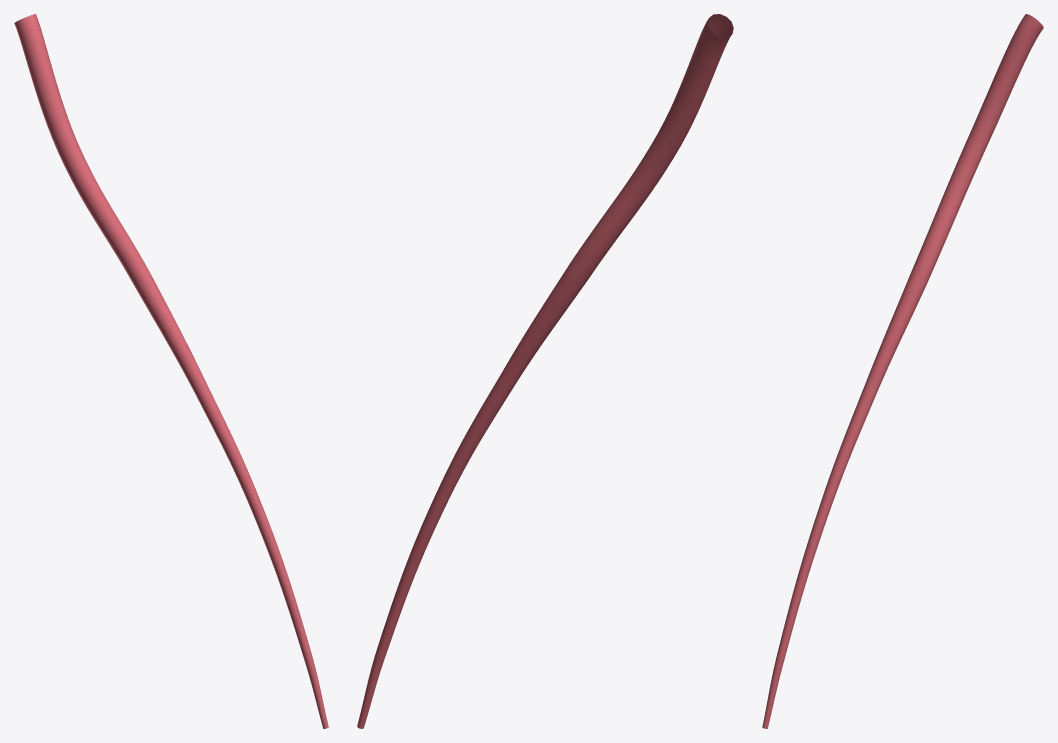
3 renders of one model, left to right at view 1: azimuth 30°, elevation 25°; view 2: azimuth 210°, elevation 25°; view 3: azimuth 270°, elevation 25°, orthographic. The views are drawn at different scales.
Parts seen in each view (by area): view 1: ZA_f090c4ca8a7de714; view 2: ZA_f090c4ca8a7de714; view 3: ZA_f090c4ca8a7de714.
Part boxes in pixels (x1,y1,x2,y2): ZA_f090c4ca8a7de714: (14, 14, 328, 728); ZA_f090c4ca8a7de714: (357, 14, 733, 728); ZA_f090c4ca8a7de714: (762, 14, 1043, 728).
Bounding box in the file's own units: 0.034 × 0.1218 × 0.0488.
